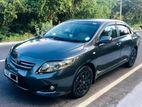car: (3, 18, 140, 99)
